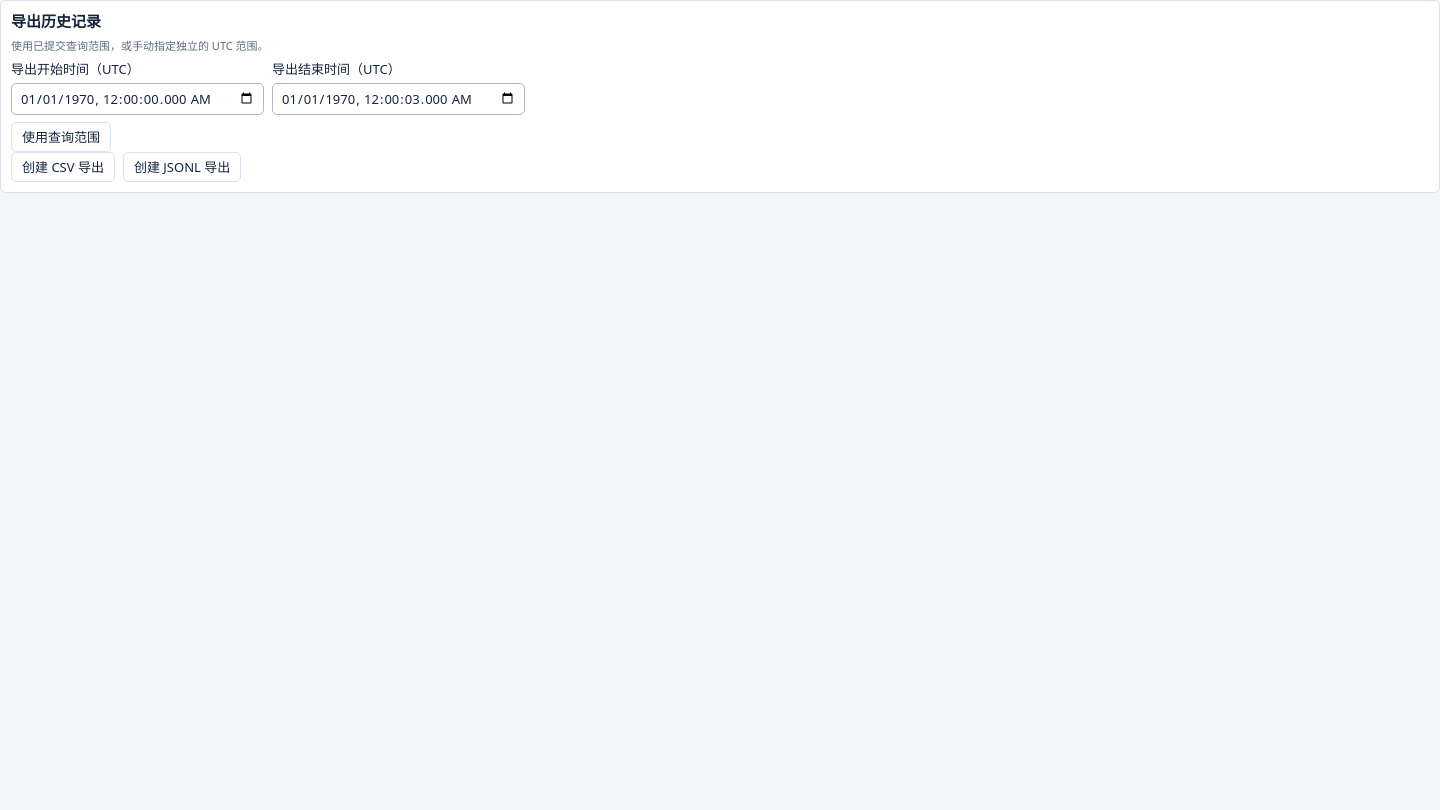
Test: does not create export for an invalid inverted range
Replace the text in the field labelled "导出开始时间（UTC）" with "2026-08-11T00:00:00.000". click: x=138, y=99
box: [11,83,264,115]
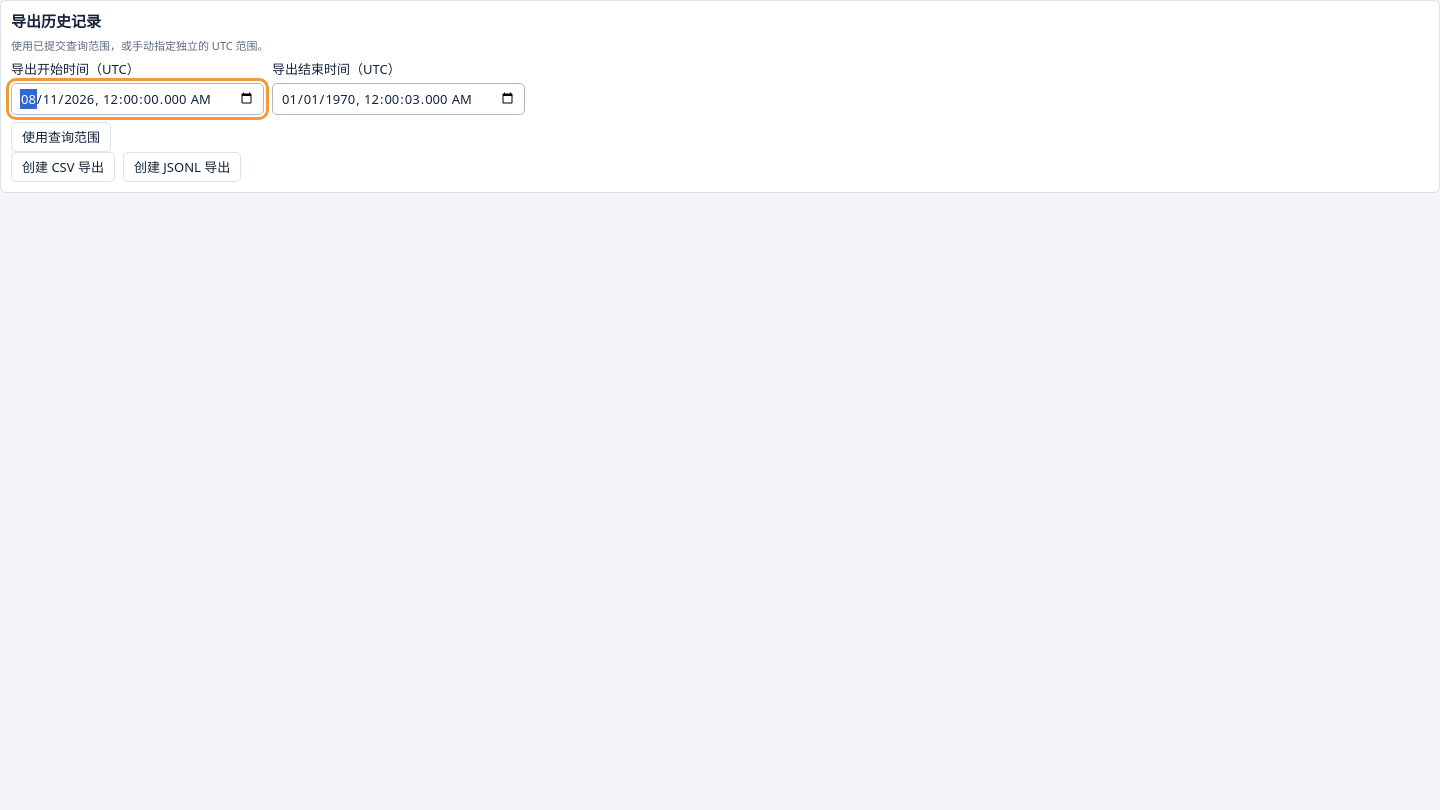
Replace the text in the field labelled "导出结束时间（UTC）" with "2026-08-10T00:00:00.000". click: x=398, y=99
box: [272,83,525,115]
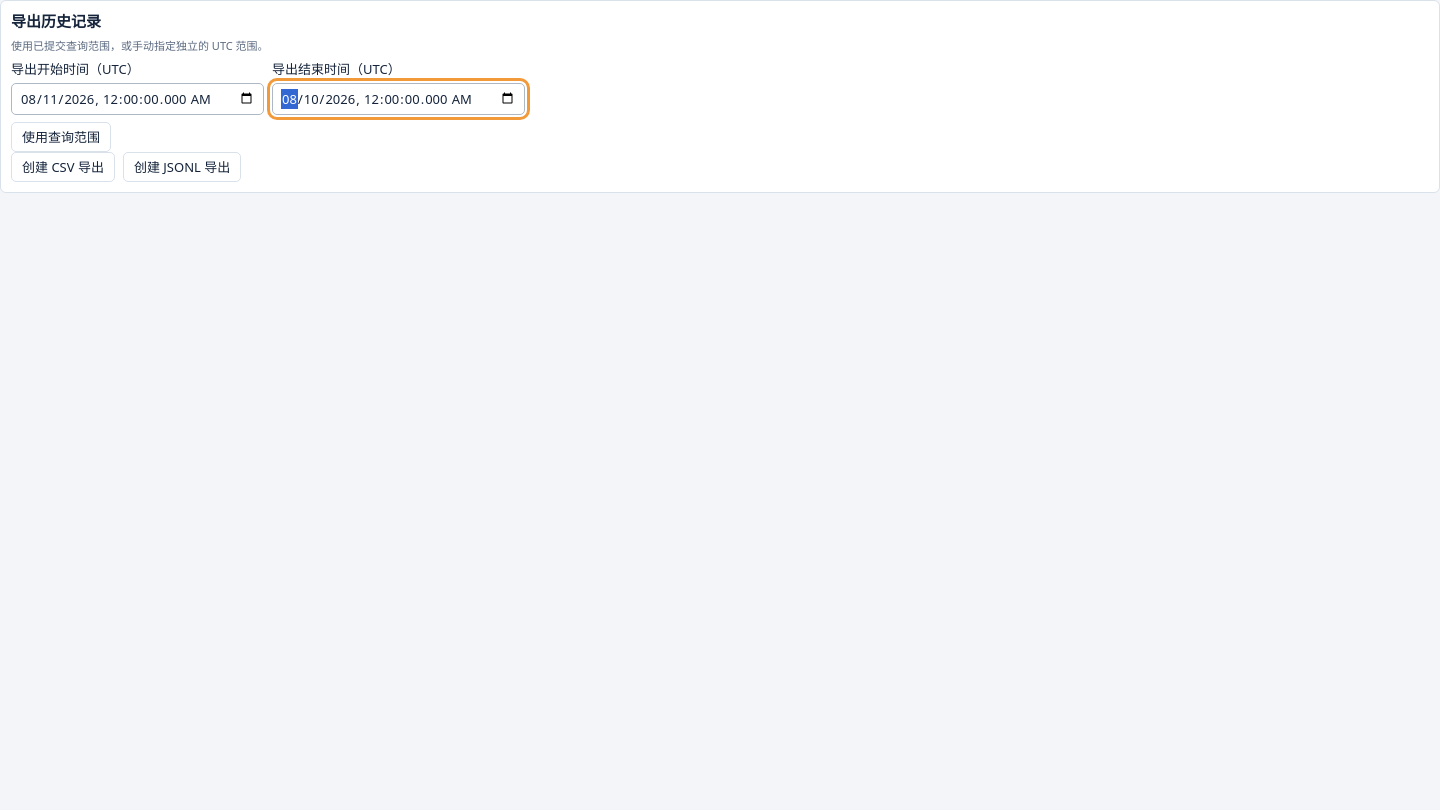
Click the button "创建 JSONL 导出". click: x=182, y=167
box: [123,152,241,182]
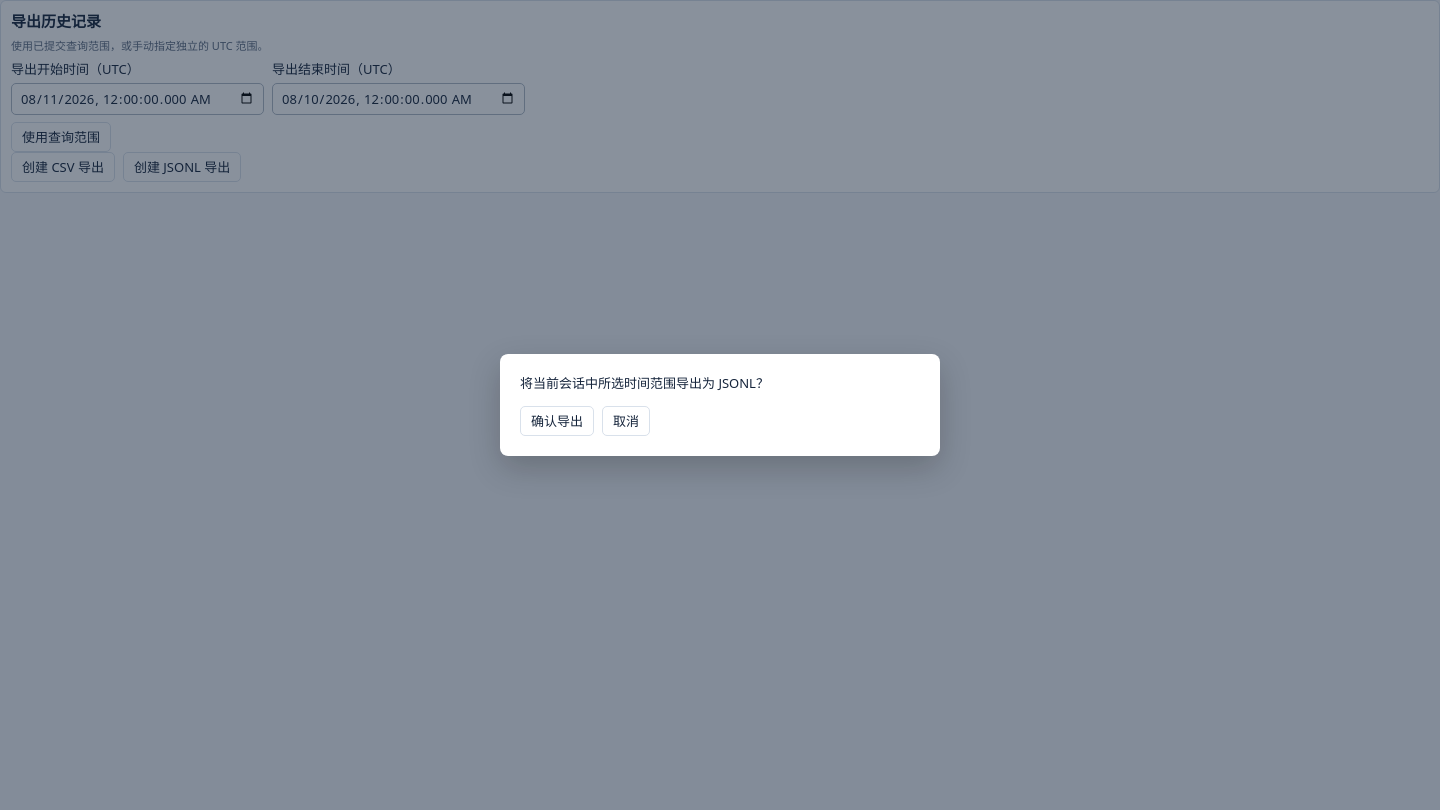
Click the button "确认导出". click: x=557, y=421
box: [520,406,594,436]
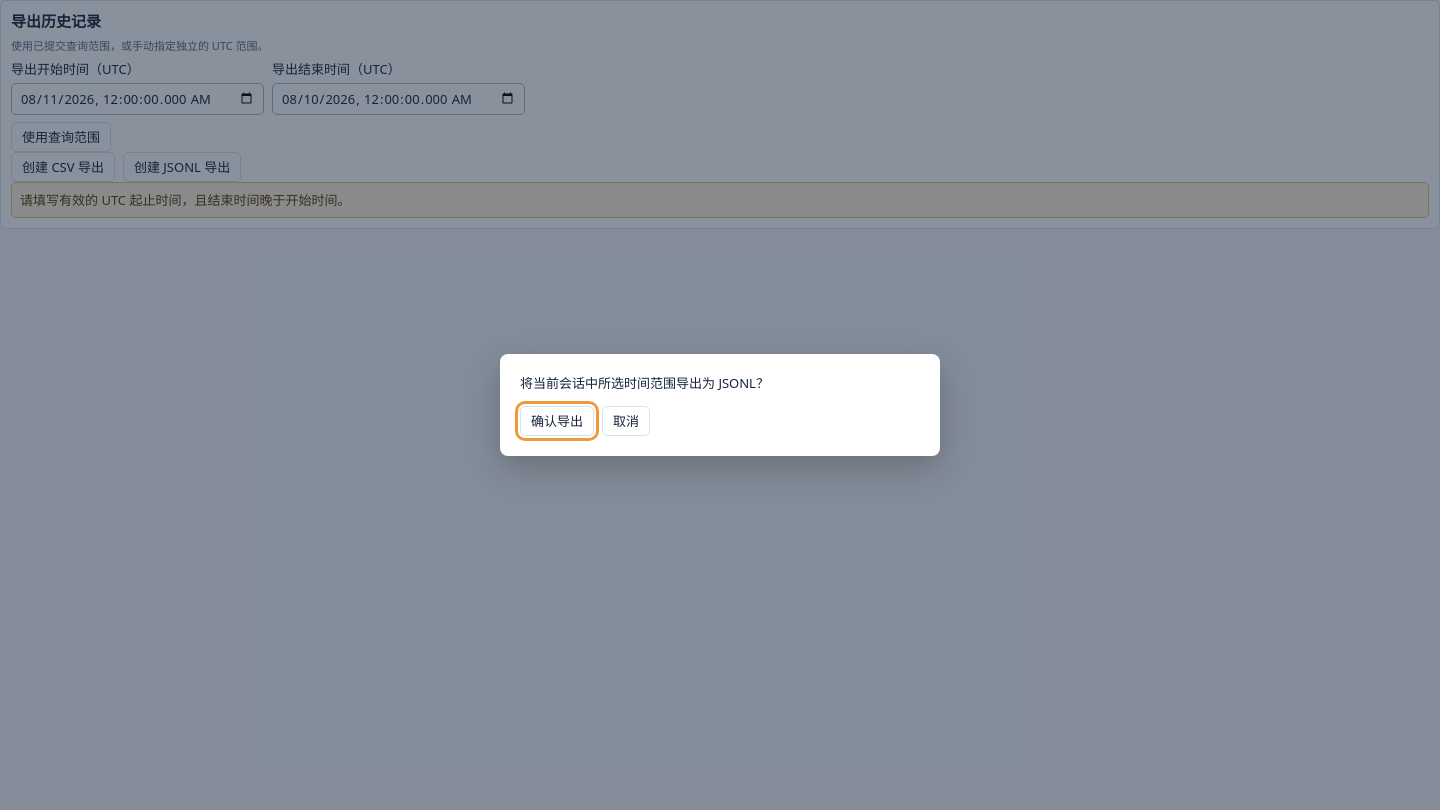
Expected: the message does not show "1970 年", [11,182,1429,218]
Now the message shows "结束时间晚于开始时间", box [20,191,350,209]
